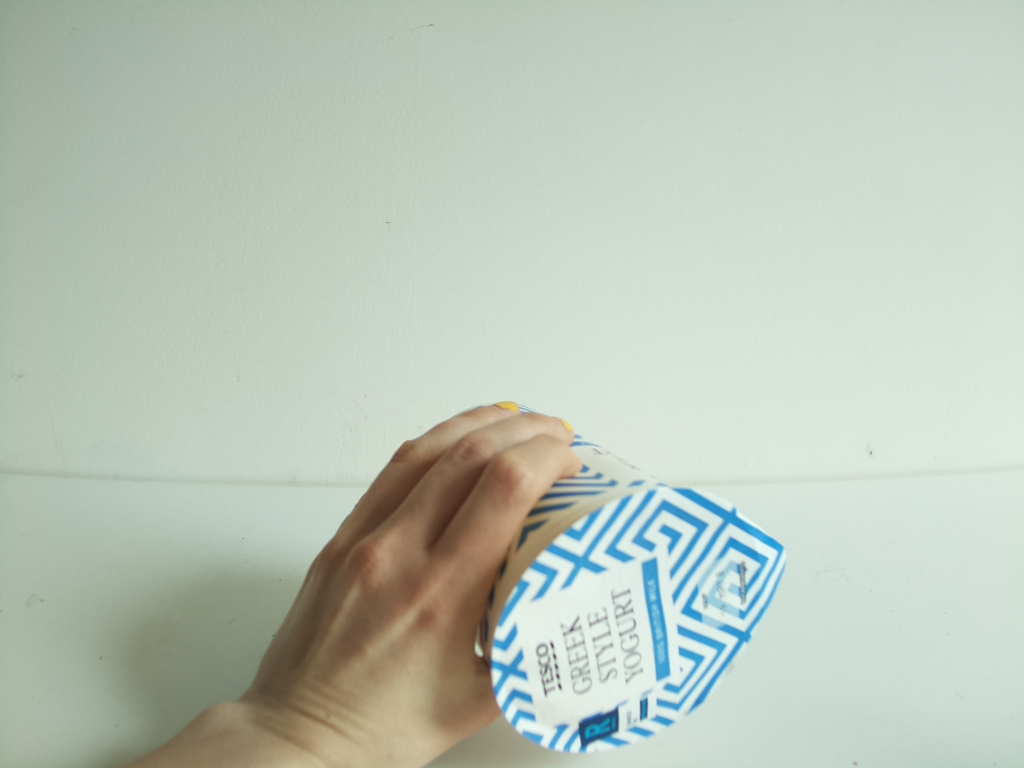yogurt: (477, 408, 791, 759)
